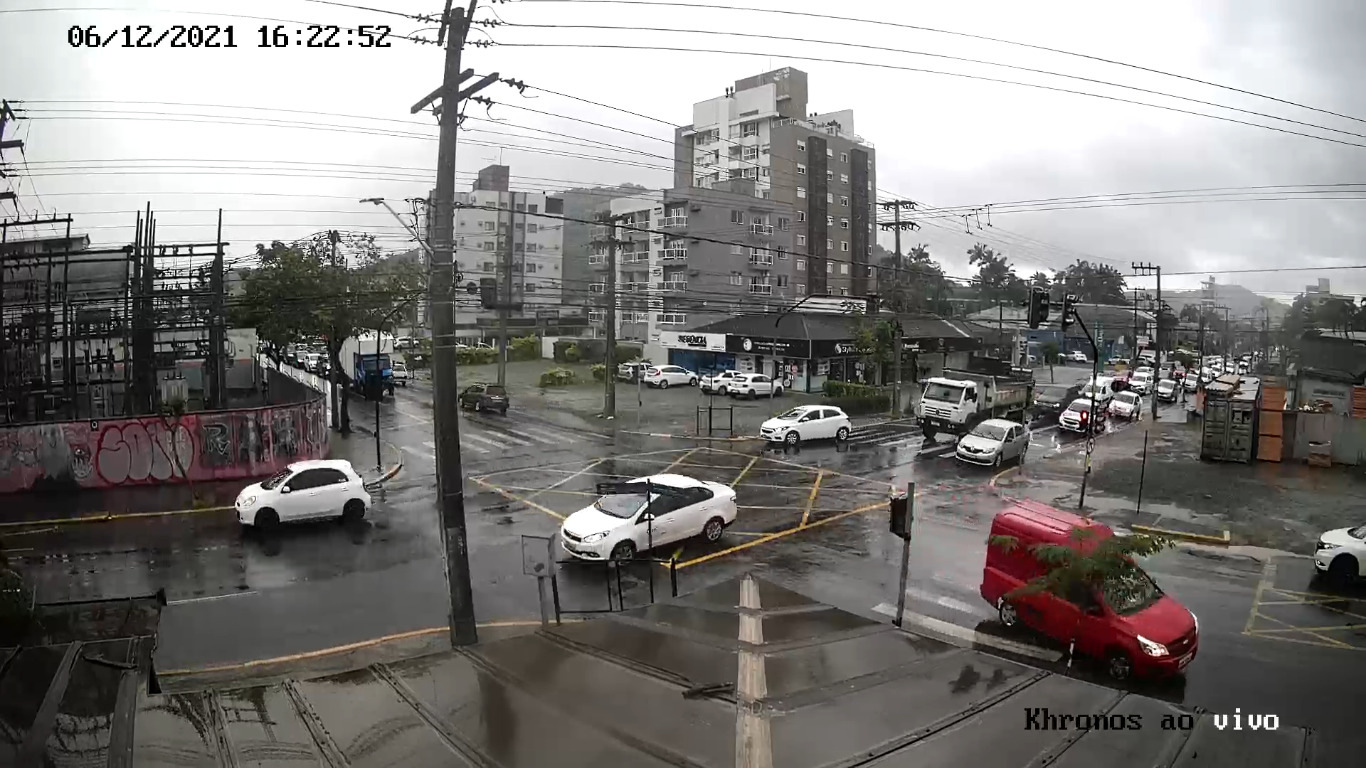car: (979, 497, 1201, 684), (562, 473, 739, 570), (235, 457, 374, 533)
